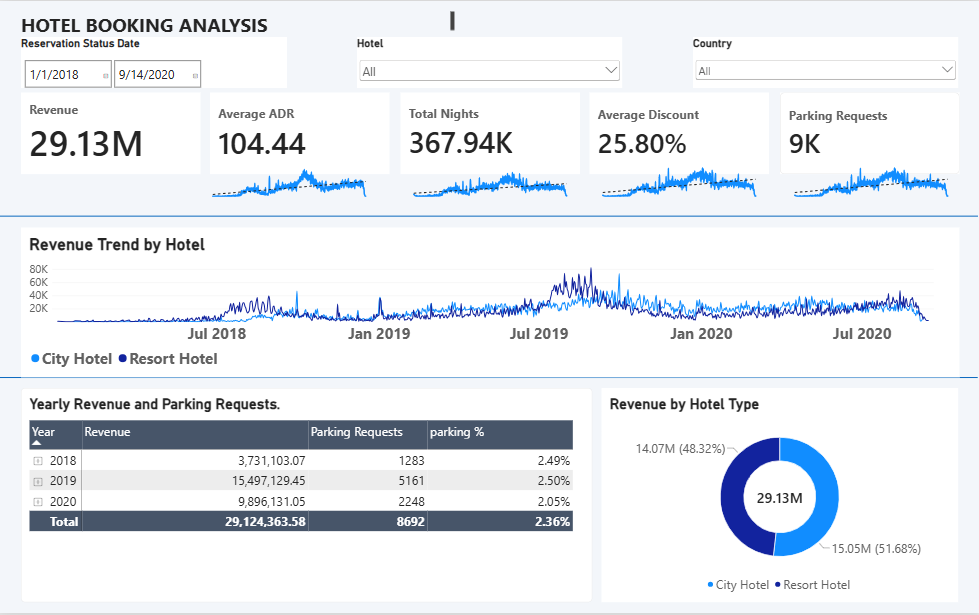

The page's visual inventory and layout, read from the dashboard file:
{"tool":"powerbi","page":{"name":"Page 1","canvas":[1920,1200],"ordinal":0},"visuals":[{"type":"shape","box":[0,700.2,1919.1,76.5],"z":0},{"type":"shape","box":[0,339.3,1919.1,167.2],"z":1000},{"type":"cardVisual","fields":{"Data":["Sum(Hotel_Bookings.Revenue)"]},"box":[40,180.5,352,160],"z":2000},{"type":"cardVisual","fields":{"Data":["Avg(Hotel_Bookings.adr)"]},"box":[412,180.5,352,160],"z":3000},{"type":"cardVisual","fields":{"Data":["Hotel_Bookings.Total Nights"]},"box":[784,180,352,160],"z":4000},{"type":"cardVisual","fields":{"Data":["Avg(Hotel_Bookings.Discount)"]},"box":[1156,180,352,160],"z":5000},{"type":"lineChart","title":"Revenue Trend by Hotel","fields":{"Category":["Hotel_Bookings.reservation_status_date"],"Series":["Hotel_Bookings.hotel"],"Y":["Sum(Hotel_Bookings.Revenue)"]},"box":[40,442.9,1840,294.3],"z":6000},{"type":"slicer","title":"Country","fields":{"Values":["Hotel_Bookings.country"]},"box":[1360,70,520,100],"z":7000},{"type":"slicer","title":"Hotel","fields":{"Values":["Hotel_Bookings.hotel"]},"box":[700,70,520,100],"z":8000},{"type":"lineChart","fields":{"Category":["Hotel_Bookings.reservation_status_date"],"Y":["Sum(Hotel_Bookings.adr)"]},"box":[390.7,300,352,100],"z":9000},{"type":"lineChart","fields":{"Category":["Hotel_Bookings.reservation_status_date"],"Y":["Hotel_Bookings.Total Nights"]},"box":[784.2,300,352,100],"z":10000},{"type":"lineChart","fields":{"Category":["Hotel_Bookings.reservation_status_date"],"Y":["Sum(Hotel_Bookings.Discount)"]},"box":[1154.9,300,352,100],"z":11000},{"type":"cardVisual","fields":{"Data":["Sum(Hotel_Bookings.required_car_parking_spaces)"]},"box":[1528,180.5,352,160],"z":12000},{"type":"lineChart","fields":{"Category":["Hotel_Bookings.reservation_status_date"],"Y":["Sum(Hotel_Bookings.Discount)"]},"box":[1531.3,300,352,100],"z":13000},{"type":"donutChart","title":"Revenue by Hotel Type","fields":{"Category":["Hotel_Bookings.hotel"],"Y":["Sum(Hotel_Bookings.Revenue)"]},"box":[1180,760,699,420],"z":14000},{"type":"pivotTable","title":"Yearly Revenue and Parking Requests.","fields":{"Rows":["Hotel_Bookings.reservation_status_date.Variation.Date Hierarchy.Year","Hotel_Bookings.hotel"],"Values":["Sum(Hotel_Bookings.Revenue)","Sum(Hotel_Bookings.required_car_parking_spaces)","Hotel_Bookings.parking percentage"]},"box":[40,760,1120,420],"z":15000},{"type":"slicer","title":"Reservation Status Date","fields":{"Values":["Hotel_Bookings.reservation_status_date"]},"box":[41.2,70.6,520,100],"z":16000},{"type":"textbox","box":[1713,487,206,213],"z":17000},{"type":"textbox","box":[40,20,850,50],"z":18000}]}

Visuals, with their boxes in screenshot pixels (x1, y1, x2, y2), scaled from the page's 1920x1200 canvas onto the 979x615 screenshot:
shape: 0,359,978,398
shape: 0,174,978,260
cardVisual - Sum(Hotel_Bookings.Revenue): 20,93,200,175
cardVisual - Avg(Hotel_Bookings.adr): 210,93,390,175
cardVisual - Hotel_Bookings.Total Nights: 400,92,579,174
cardVisual - Avg(Hotel_Bookings.Discount): 589,92,769,174
"Revenue Trend by Hotel" lineChart: 20,227,959,378
"Country" slicer: 693,36,959,87
"Hotel" slicer: 357,36,622,87
lineChart - Hotel_Bookings.reservation_status_date x Sum(Hotel_Bookings.adr): 199,154,379,205
lineChart - Hotel_Bookings.reservation_status_date x Hotel_Bookings.Total Nights: 400,154,579,205
lineChart - Hotel_Bookings.reservation_status_date x Sum(Hotel_Bookings.Discount): 589,154,768,205
cardVisual - Sum(Hotel_Bookings.required_car_parking_spaces): 779,93,959,175
lineChart - Hotel_Bookings.reservation_status_date x Sum(Hotel_Bookings.Discount): 781,154,960,205
"Revenue by Hotel Type" donutChart: 602,389,958,605
"Yearly Revenue and Parking Requests." pivotTable: 20,389,591,605
"Reservation Status Date" slicer: 21,36,286,87
textbox: 873,250,978,359
textbox: 20,10,454,36
